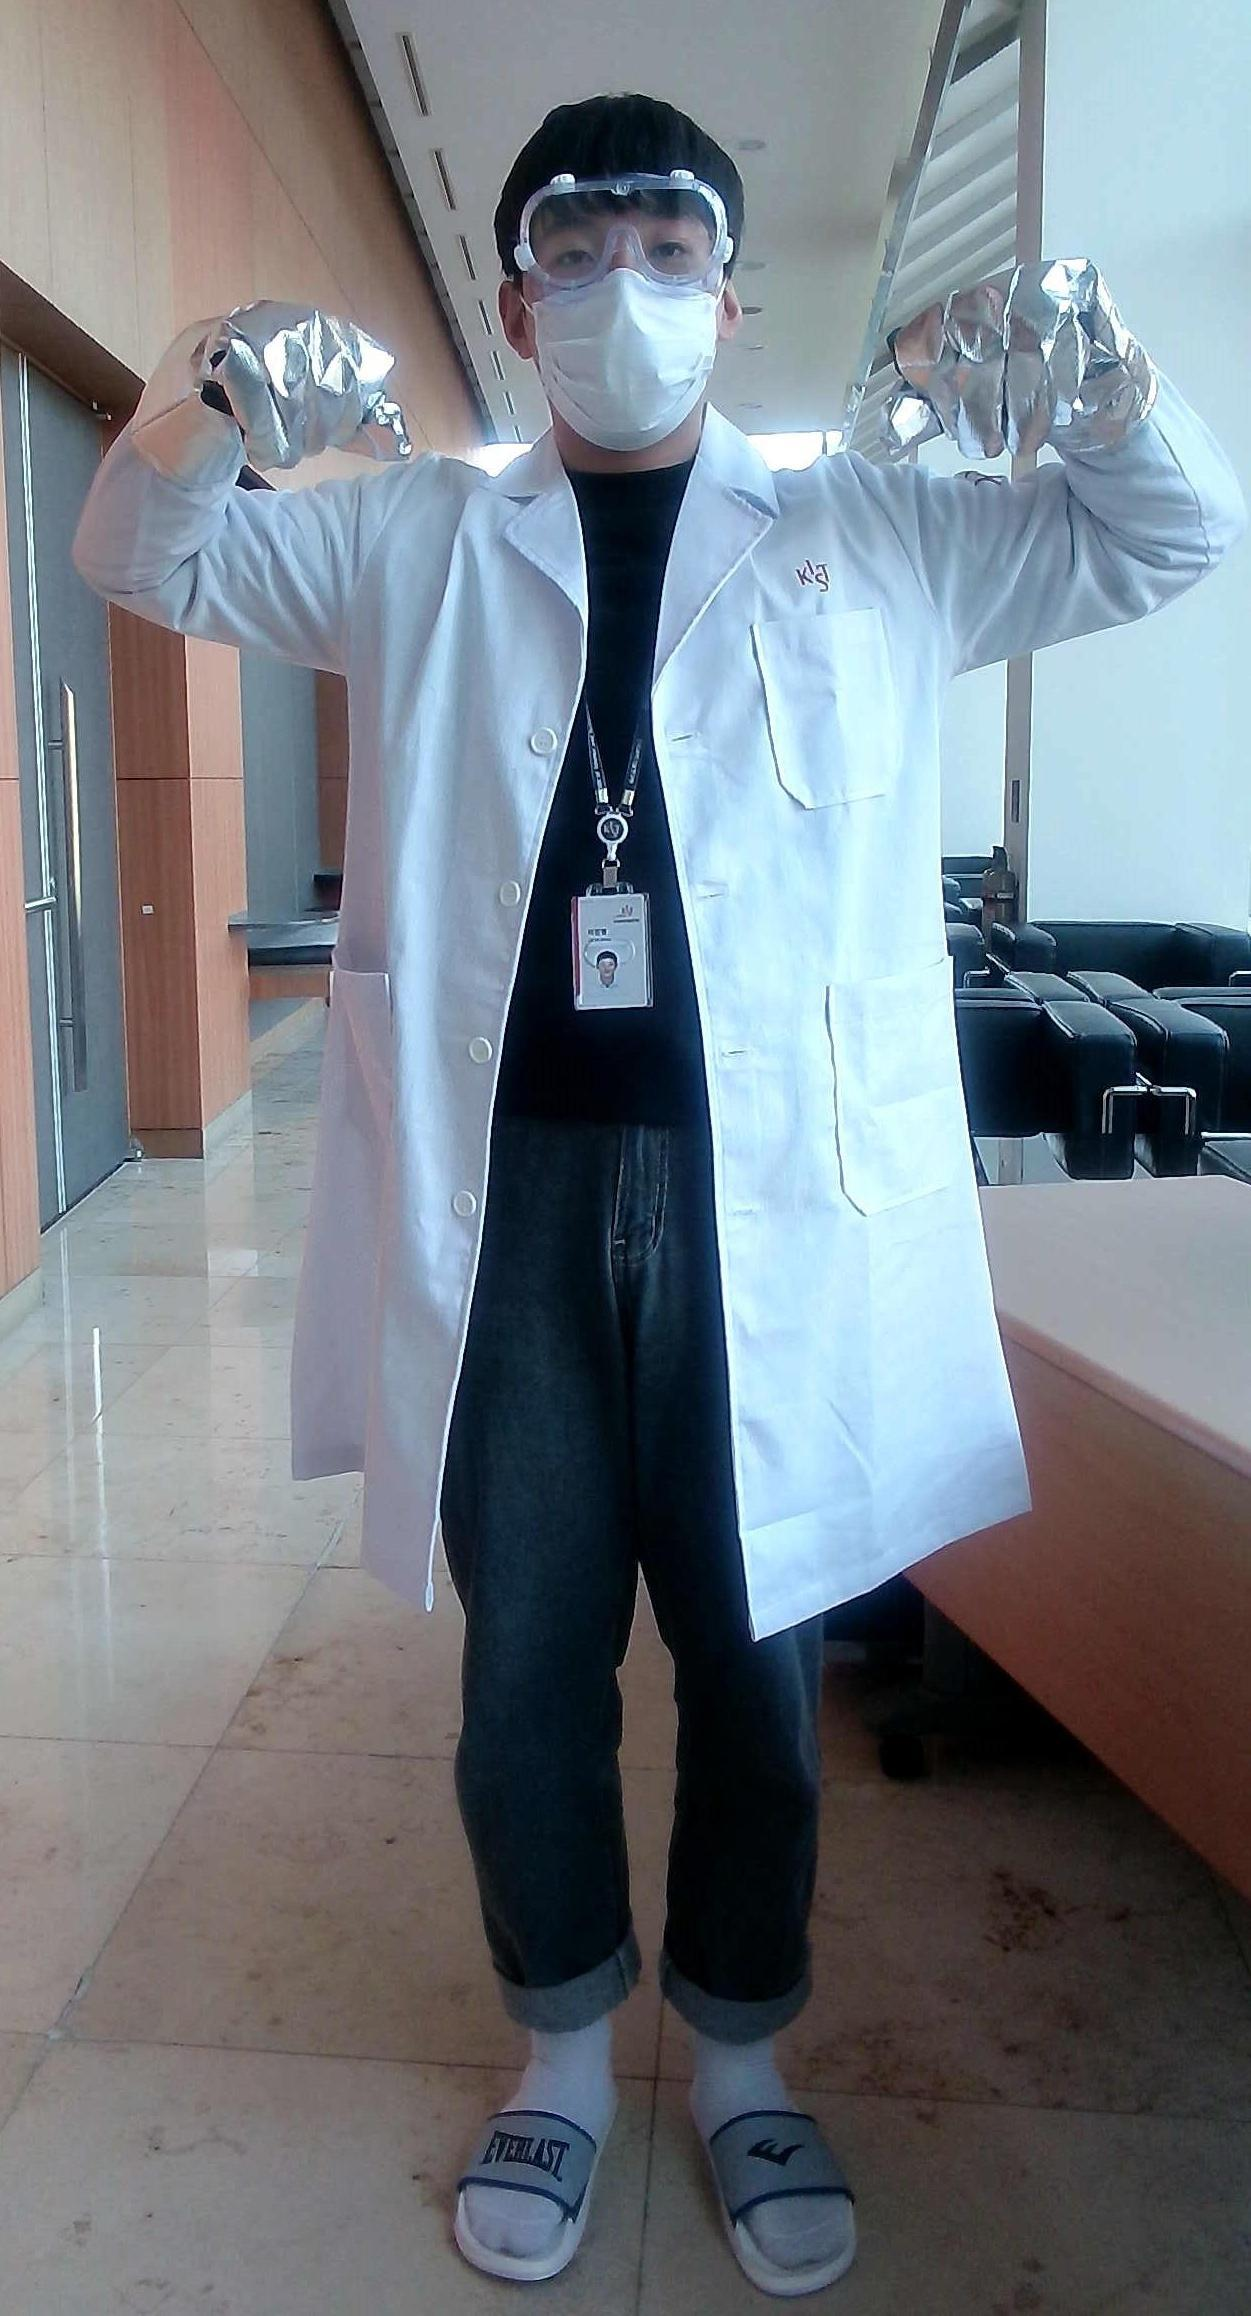lab_coat: (327, 460, 941, 1649)
